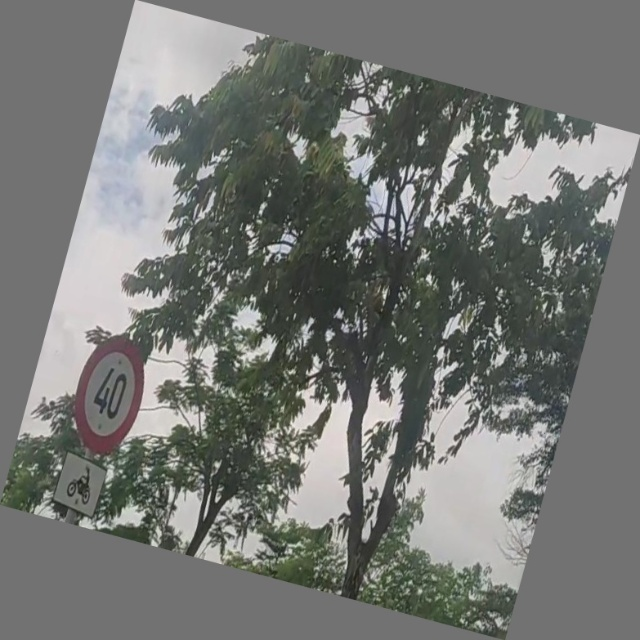P.127*40: (60, 327, 159, 465)
S.505a*Xe may: (47, 450, 112, 520)
